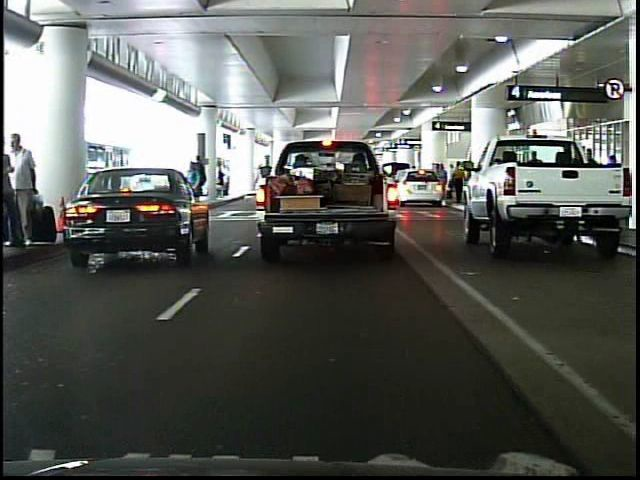person: (8, 130, 40, 250), (179, 153, 211, 224)
